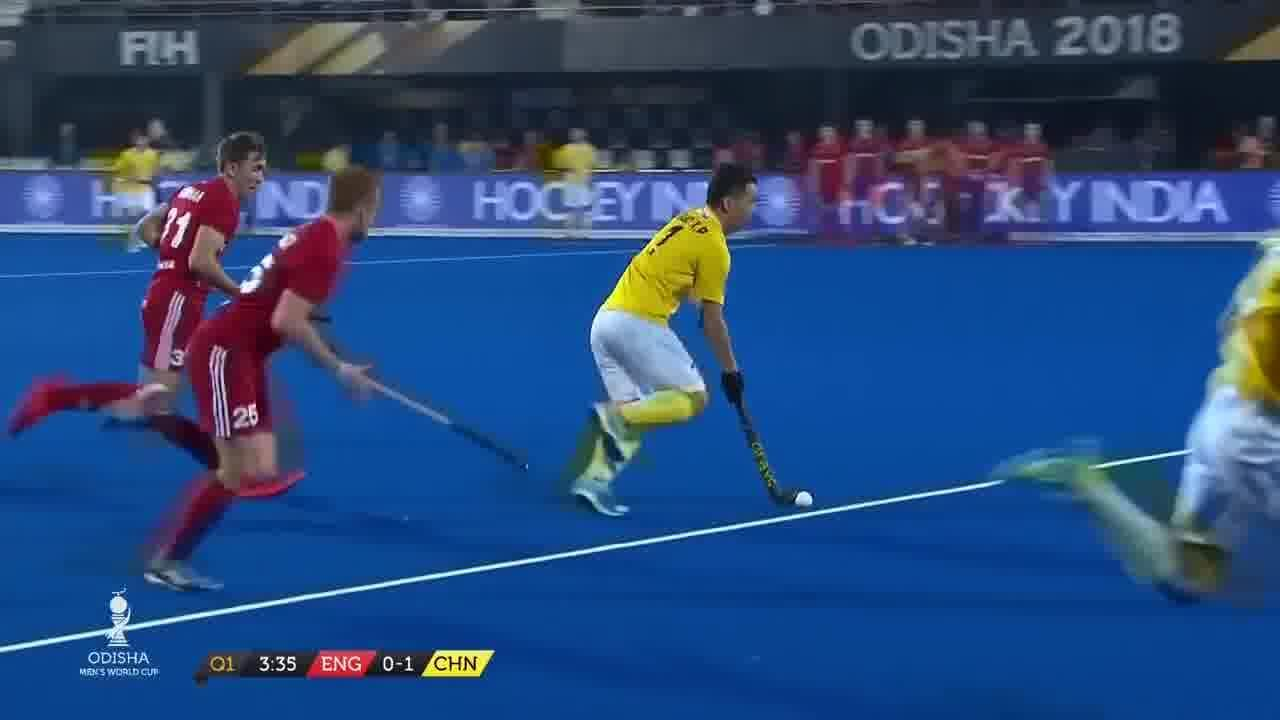ball: (792, 484, 820, 514)
